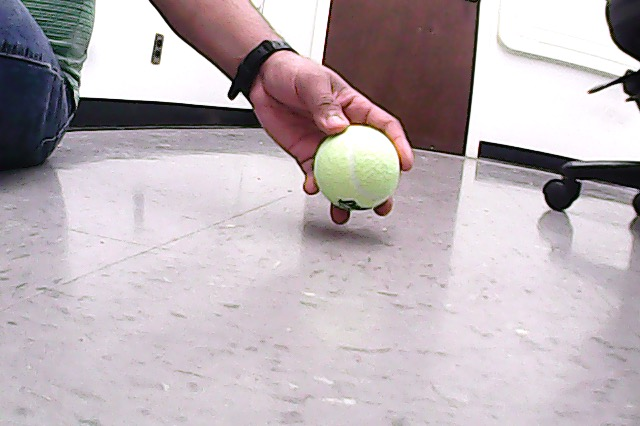ball: (310, 125, 403, 213)
